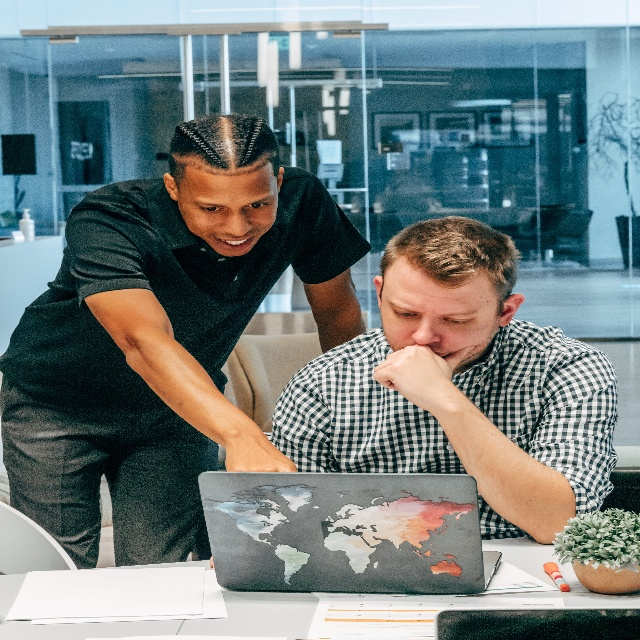Sin_guantes: (372, 345, 476, 410), (225, 423, 298, 473)
